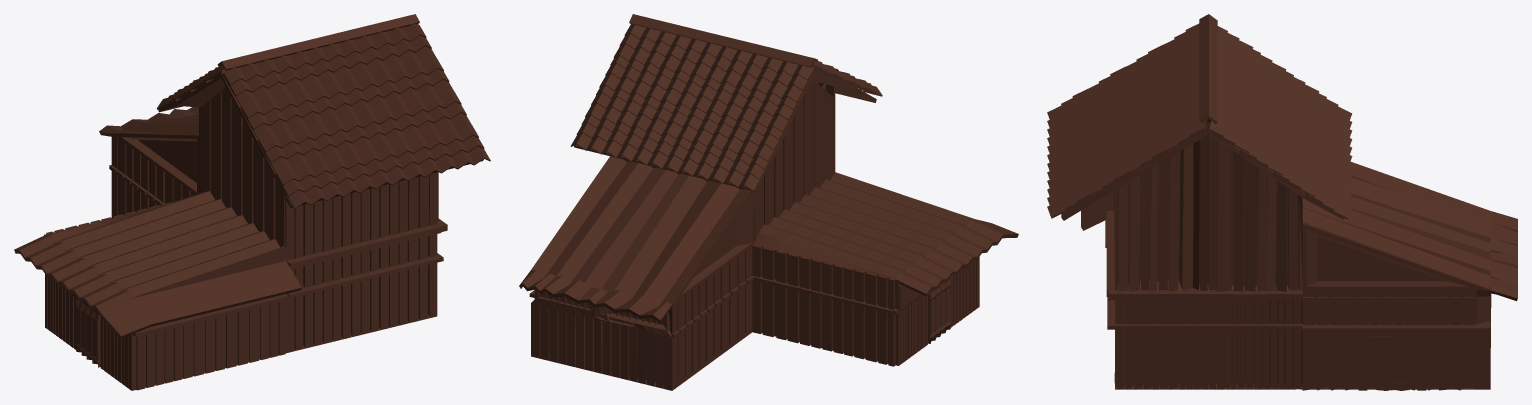
The model's file is 3D_house3.fbx.
3 renders of one model, left to right at view 1: azimuth 30°, elevation 25°; view 2: azimuth 150°, elevation 25°; view 3: azimuth 270°, elevation 25°, orthographic. The views are drawn at different scales.
Visible parts, largest first — view 1: Plane.005, Plane.014, Plane.015, Plane.006; view 2: Plane.005, Plane.006, Plane.015, Plane.014; view 3: Plane.005, Plane.014, Plane.006, Cube.008, Plane.015.
Boxes of the visible parts, <box> form: Plane.005: <box>14,74,483,390</box>; Plane.014: <box>222,22,490,208</box>; Plane.015: <box>217,14,419,70</box>; Plane.006: <box>157,27,404,109</box>; Plane.005: <box>519,70,1018,390</box>; Plane.006: <box>570,24,814,191</box>; Plane.015: <box>629,14,817,67</box>; Plane.014: <box>812,61,882,96</box>; Plane.005: <box>1061,119,1517,390</box>; Plane.014: <box>1047,22,1206,218</box>; Plane.006: <box>1206,26,1352,219</box>; Cube.008: <box>1364,332,1410,390</box>; Plane.015: <box>1199,14,1217,123</box>.
Bounding box in the file's own units: 1428 × 1011 × 1504.
